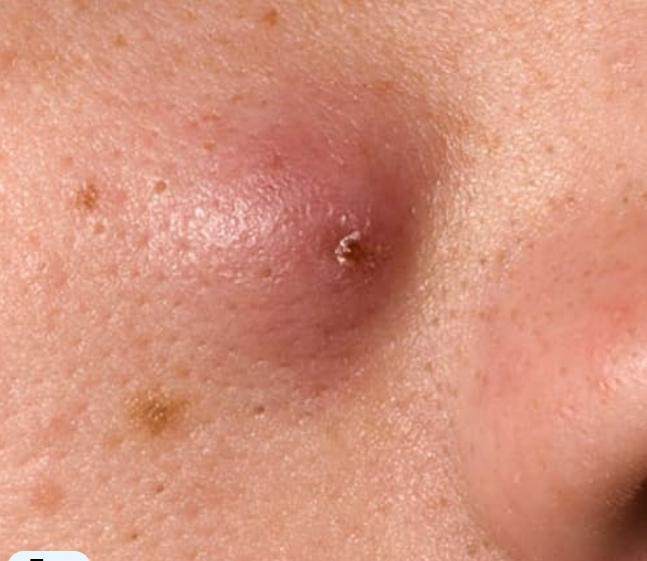blackhead: (498, 246, 574, 402)
cystic: (151, 80, 489, 405)
